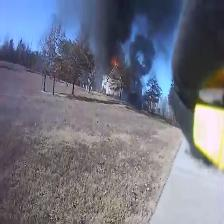smoke: (95, 0, 153, 65), (157, 2, 176, 29)
